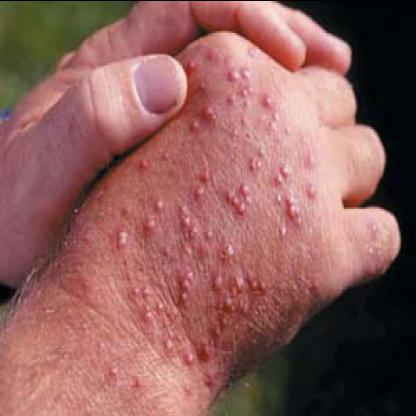Fire ant: (183, 42, 254, 146), (268, 148, 318, 242), (119, 272, 196, 329), (206, 276, 264, 350), (160, 206, 212, 268), (257, 92, 291, 144), (103, 203, 129, 268), (136, 192, 161, 249), (365, 217, 387, 279), (221, 183, 250, 221), (176, 373, 215, 400), (133, 144, 169, 172), (214, 231, 238, 270), (179, 330, 205, 366), (188, 166, 210, 204), (302, 274, 324, 310), (158, 330, 178, 364), (240, 150, 265, 176), (93, 338, 118, 358), (74, 275, 94, 297), (103, 361, 119, 386), (130, 368, 140, 394)
